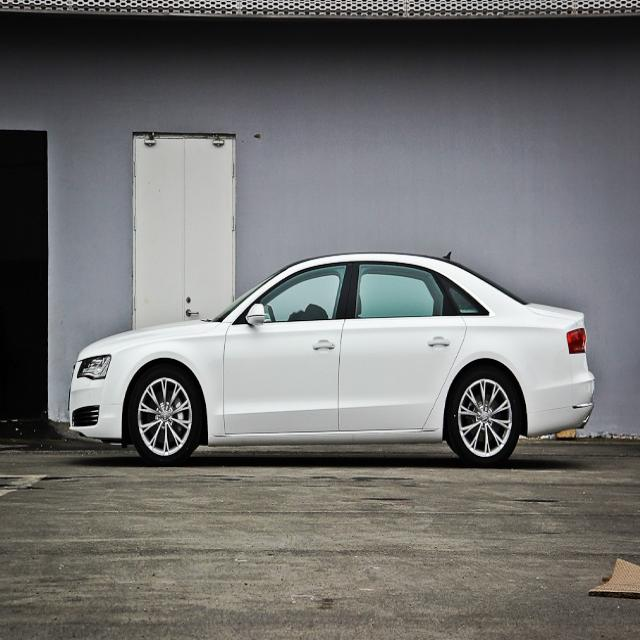back_left_side_light: (565, 323, 589, 357)
door: (341, 258, 468, 437)
front_bumper: (68, 373, 123, 447)
front_left_side_door: (222, 259, 354, 436)
front_left_side_light: (75, 354, 112, 381)
front_left_side_mirror: (244, 301, 266, 325)
rear_bumper: (528, 358, 598, 431)
wheel: (452, 367, 519, 465), (131, 367, 200, 462)
